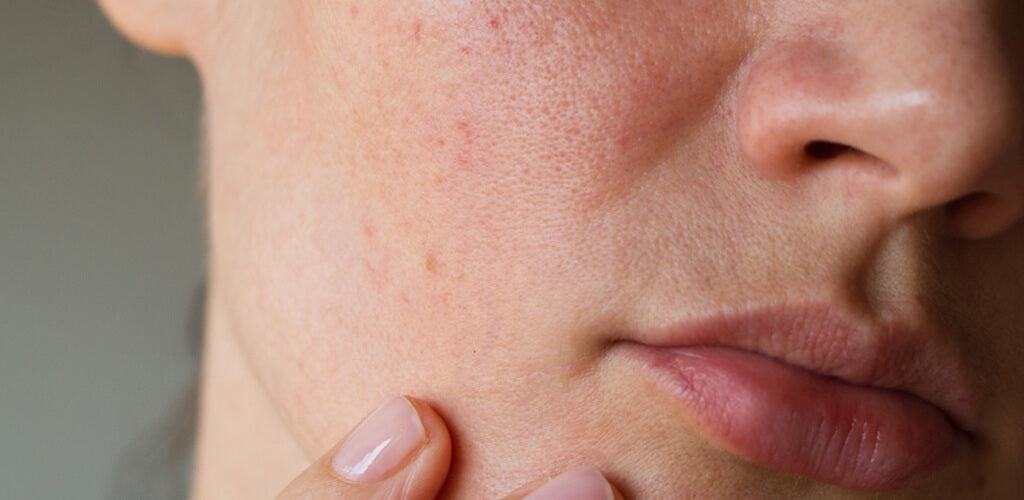Englarged-Pores: (330, 28, 638, 298)
